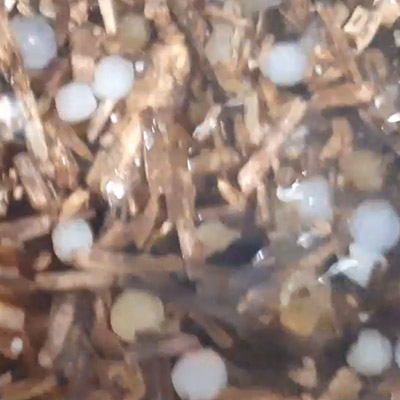nurdle: (107, 289, 170, 342), (339, 325, 399, 378), (169, 348, 229, 400), (345, 196, 400, 250), (88, 55, 138, 106), (48, 221, 99, 264), (263, 42, 309, 87), (54, 81, 103, 123)
